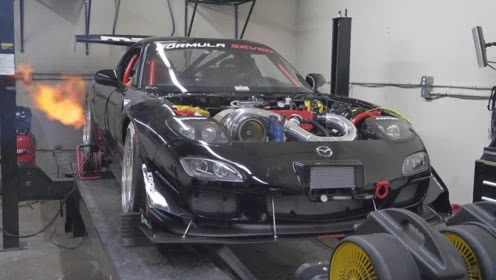fire: (15, 61, 90, 131)
